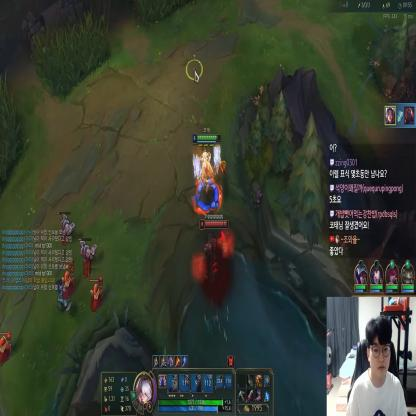streamer: (344, 318, 407, 416)
